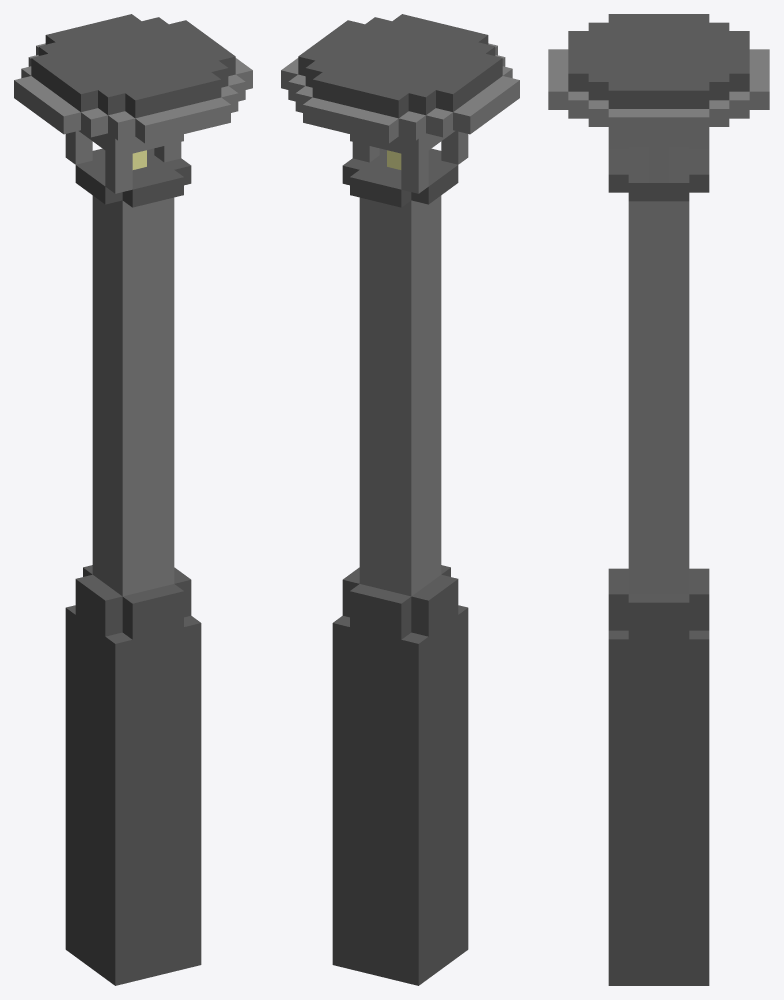
Rendered from StandingLight.obj.
The picture shows the model from 3 angles, left to right: view 1: azimuth 30°, elevation 25°; view 2: azimuth 150°, elevation 25°; view 3: azimuth 270°, elevation 25°; orthographic projection.
Bounding box in the file's own units: 1.1 × 5 × 1.1.
Materials: 1 (1 with a texture image).
